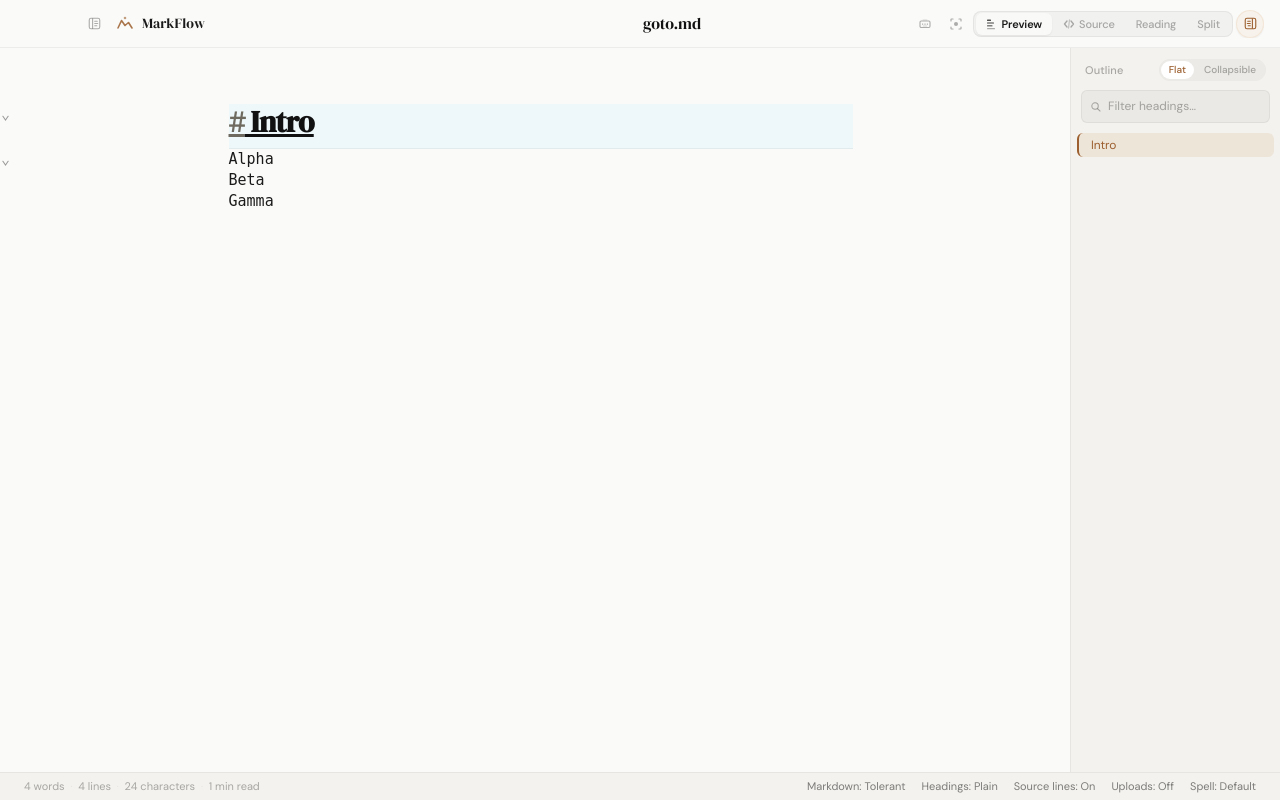
Test case: App desktop integration › opens a go-to-line dialog with Cmd/Ctrl+L and jumps to the requested line
This screenshot has width=1280, height=800.
Press l
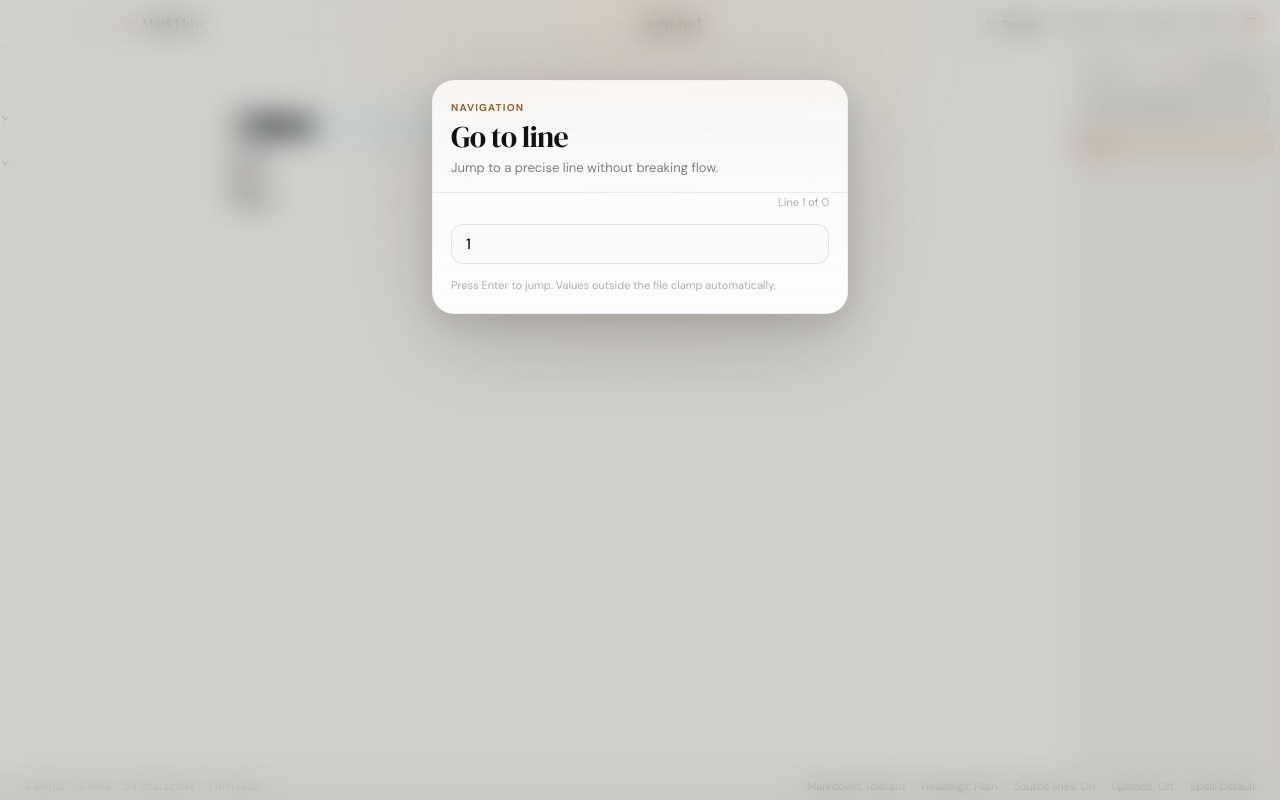
expect the dialog "Go to line" is shown: met, box [432,80,848,314]
Replace the text in the field named "Line number" with "3" at (640, 244), box [451,224,829,264]
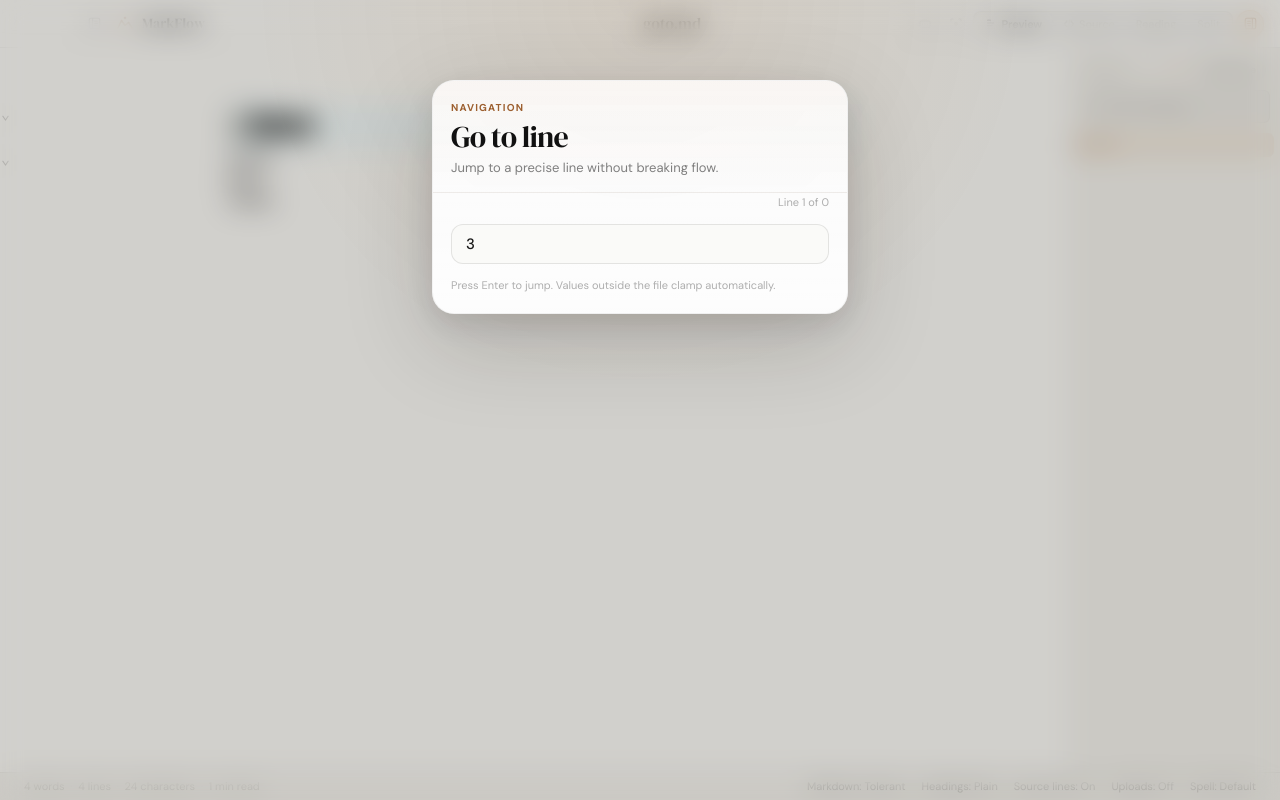
Submit the form named "Line number", box [451,193,829,294]
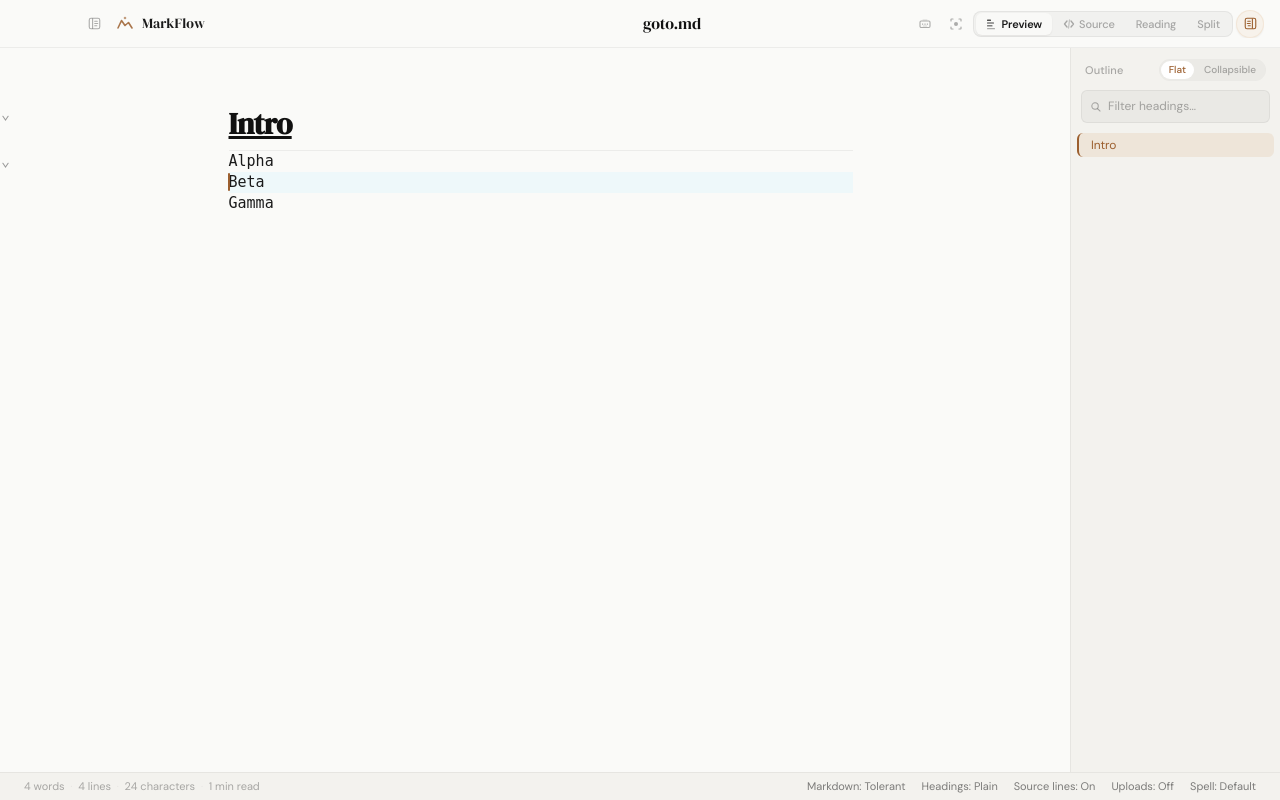
expect the heading "Go to line" is gone: met
